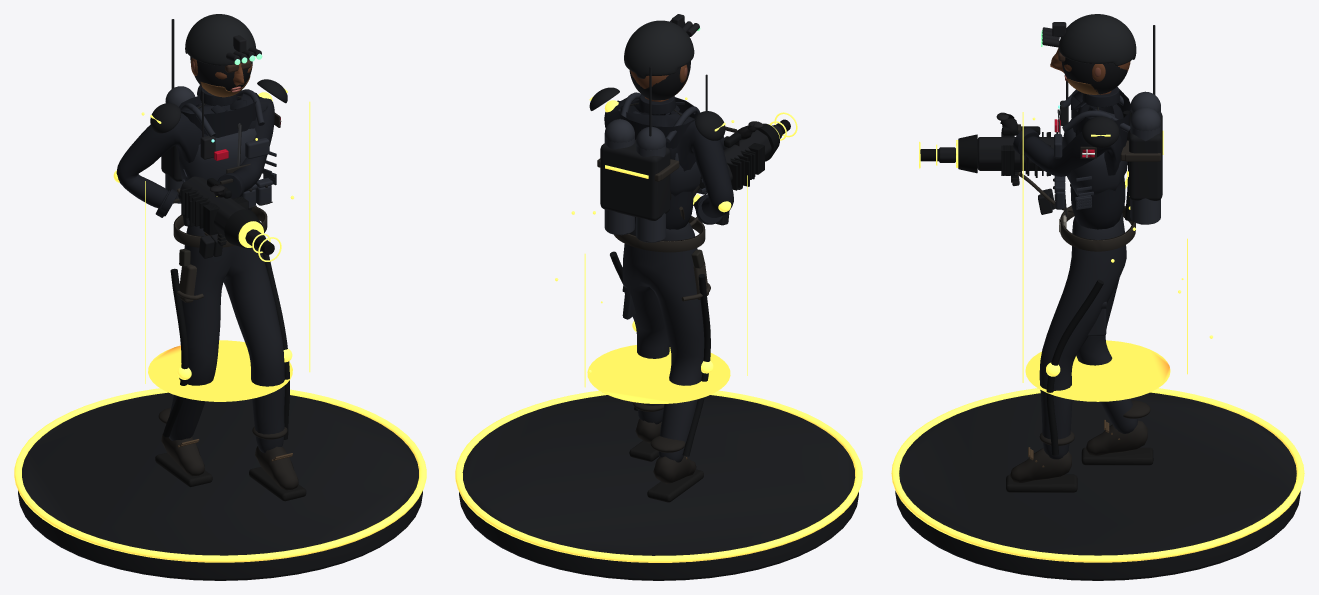
The model's file is straale_nat.glb.
The picture shows the model from 3 angles, left to right: view 1: azimuth 30°, elevation 25°; view 2: azimuth 150°, elevation 25°; view 3: azimuth 270°, elevation 25°; orthographic projection.
Parts seen in each view (by area): view 1: fod_net, menneske_net, op1_net, op4.002_net, hoved_net, vaaben_net, op4.001_net, op3_net, op4_net; view 2: fod_net, menneske_net, op3_net, op4.002_net, hoved_net, op1_net, op4.001_net, vaaben_net, op1.001_net; view 3: fod_net, menneske_net, op4.002_net, hoved_net, op1_net, op3_net, vaaben_net, op4.001_net.
Boxes of the visible parts, box(x1,y1,x2,y2) form: fod_net: box(14, 388, 426, 580); menneske_net: box(116, 85, 306, 501); op1_net: box(161, 89, 276, 302); op4.002_net: box(141, 101, 310, 401); hoved_net: box(185, 14, 262, 97); vaaben_net: box(178, 176, 263, 248); op4.001_net: box(113, 92, 292, 439); op3_net: box(150, 19, 287, 181); op4_net: box(199, 200, 281, 261); fod_net: box(455, 390, 862, 580); menneske_net: box(604, 94, 763, 502); op3_net: box(589, 66, 725, 220); op4.002_net: box(555, 97, 747, 403); hoved_net: box(624, 14, 700, 100); op1_net: box(597, 74, 710, 301); op4.001_net: box(604, 100, 731, 456); vaaben_net: box(670, 123, 780, 199); op1.001_net: box(679, 152, 751, 226); fod_net: box(891, 388, 1304, 580); menneske_net: box(996, 87, 1160, 492); op4.002_net: box(1022, 112, 1212, 401); hoved_net: box(1041, 14, 1136, 94); op1_net: box(1053, 81, 1160, 251); op3_net: box(1082, 25, 1163, 200); vaaben_net: box(956, 126, 1063, 175); op4.001_net: box(1046, 110, 1131, 455).
Bounding box in the file's own units: 1.94 × 2.48 × 1.94.
